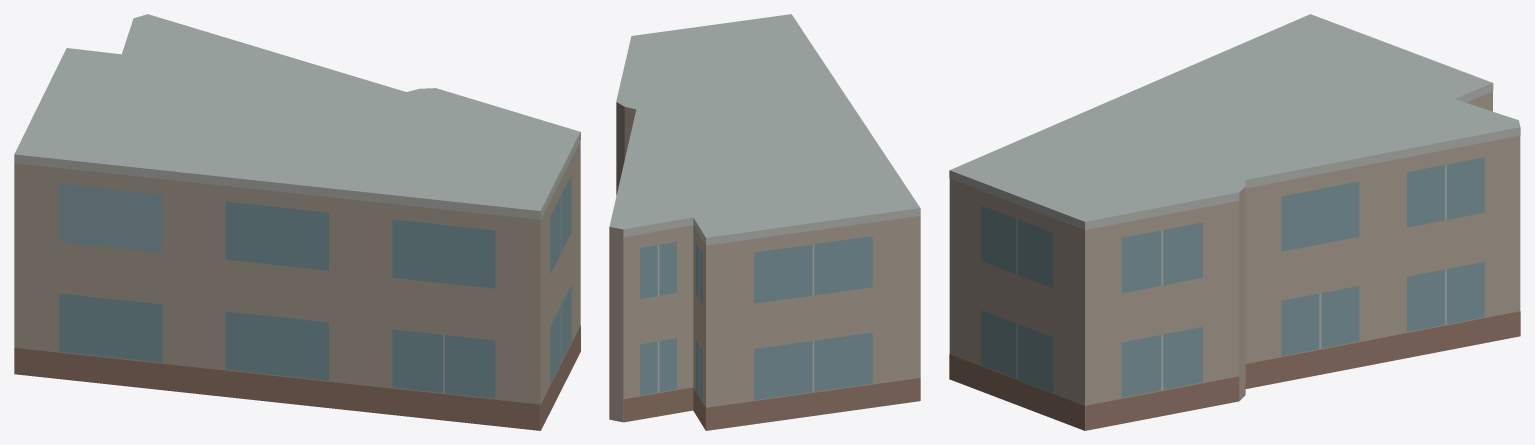
File: survey-upis-33044378.glb
3 renders of one model, left to right at view 1: azimuth 30°, elevation 25°; view 2: azimuth 150°, elevation 25°; view 3: azimuth 270°, elevation 25°, orthographic. The views are drawn at different scales.
Parts seen in each view (by area): view 1: survey-upis-33044378.tmp; view 2: survey-upis-33044378.tmp; view 3: survey-upis-33044378.tmp.
Boxes of the visible parts, left/top/right/bottom form: survey-upis-33044378.tmp: left=14, top=14, right=580, bottom=430; survey-upis-33044378.tmp: left=609, top=14, right=920, bottom=430; survey-upis-33044378.tmp: left=949, top=14, right=1520, bottom=430.
Bounding box in the file's own units: 13.02 × 6.1 × 15.11.
